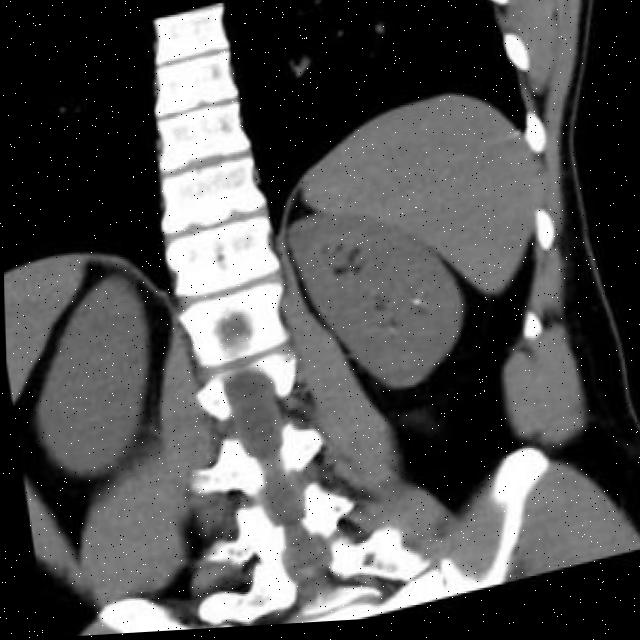Tas_Var: (410, 299, 423, 312)
